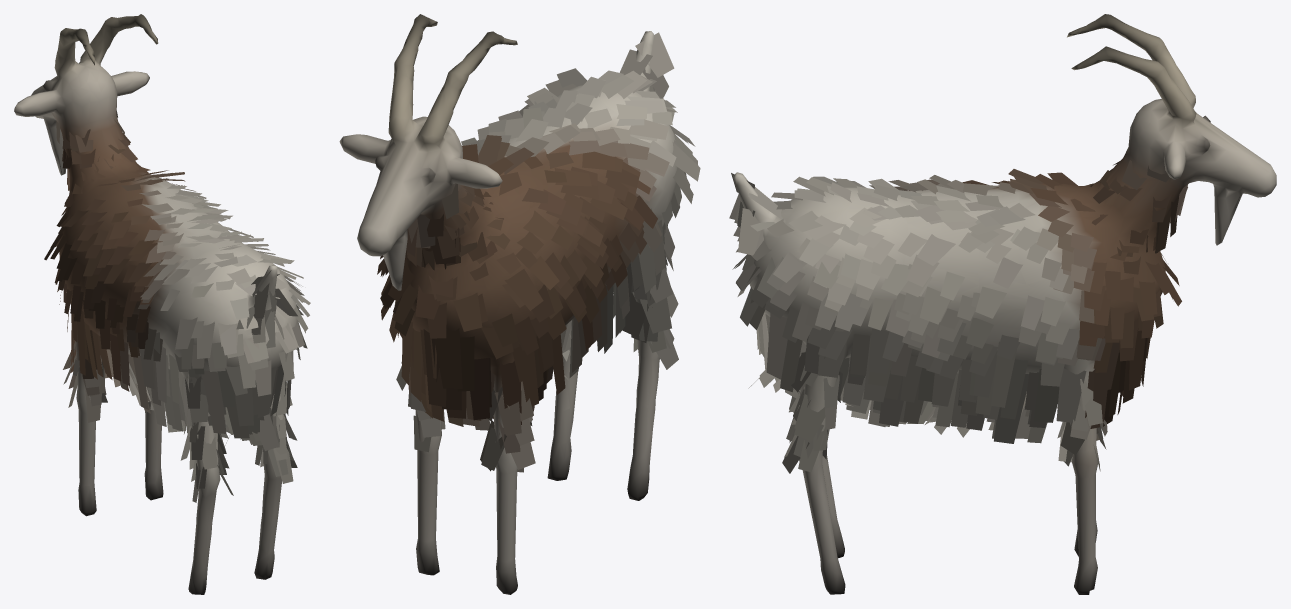
The model's file is animale_capra_3.glb.
The picture shows the model from 3 angles, left to right: view 1: azimuth 30°, elevation 25°; view 2: azimuth 150°, elevation 25°; view 3: azimuth 270°, elevation 25°; orthographic projection. The views are drawn at different scales.
Parts seen in each view (by area): view 1: animale_capra_3; view 2: animale_capra_3; view 3: animale_capra_3.
Part boxes in pixels (box(x1,y1,x2,y2)): animale_capra_3: box(14, 14, 310, 594); animale_capra_3: box(339, 14, 700, 594); animale_capra_3: box(729, 14, 1276, 594).
Bounding box in the file's own units: 0.4043 × 1.23 × 1.13.
